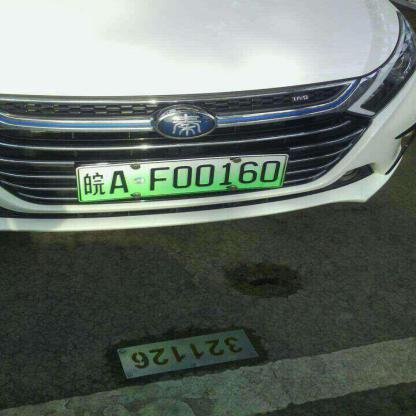lp: (79, 156, 286, 200)
